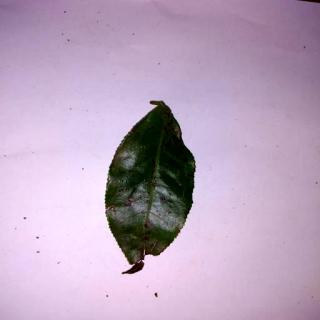Bird Eye Spot: (108, 100, 197, 275)
